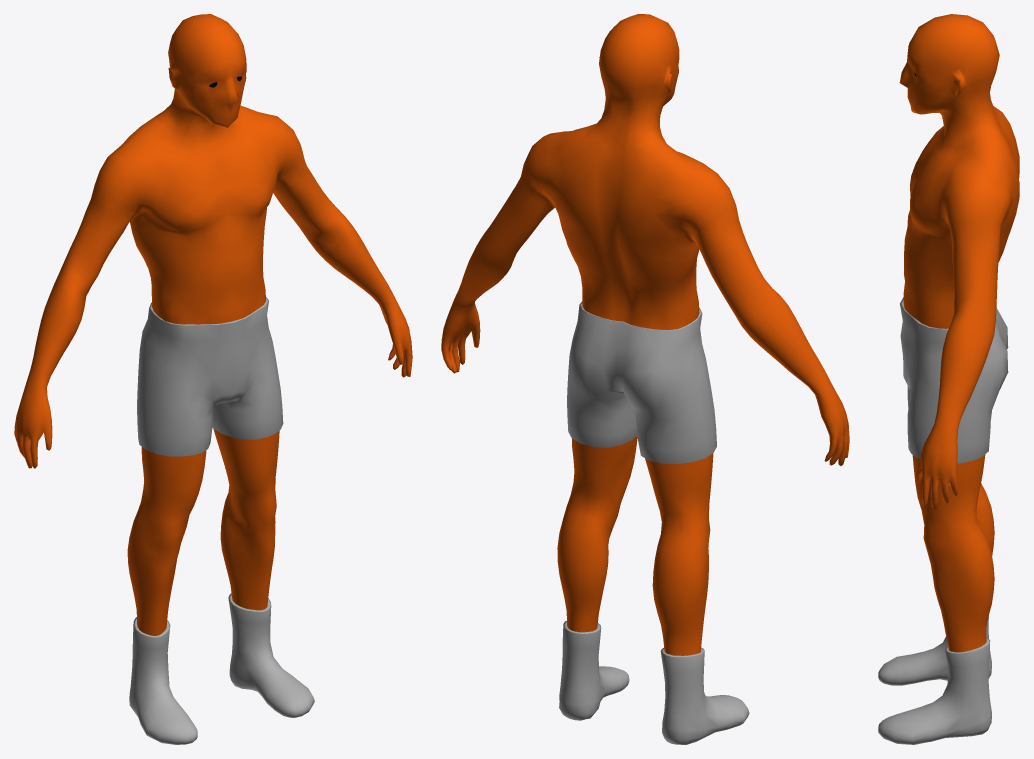
File: lpl2.fbx
The picture shows the model from 3 angles, left to right: view 1: azimuth 30°, elevation 25°; view 2: azimuth 150°, elevation 25°; view 3: azimuth 270°, elevation 25°; orthographic projection. The views are drawn at different scales.
Visible parts, largest first — view 1: dam_nhau_di; view 2: dam_nhau_di; view 3: dam_nhau_di.
Boxes of the visible parts, <box> form: dam_nhau_di: <box>14,14,412,744</box>; dam_nhau_di: <box>441,14,849,744</box>; dam_nhau_di: <box>878,14,1019,744</box>.
Bounding box in the file's own units: 151 × 256 × 47.42.
